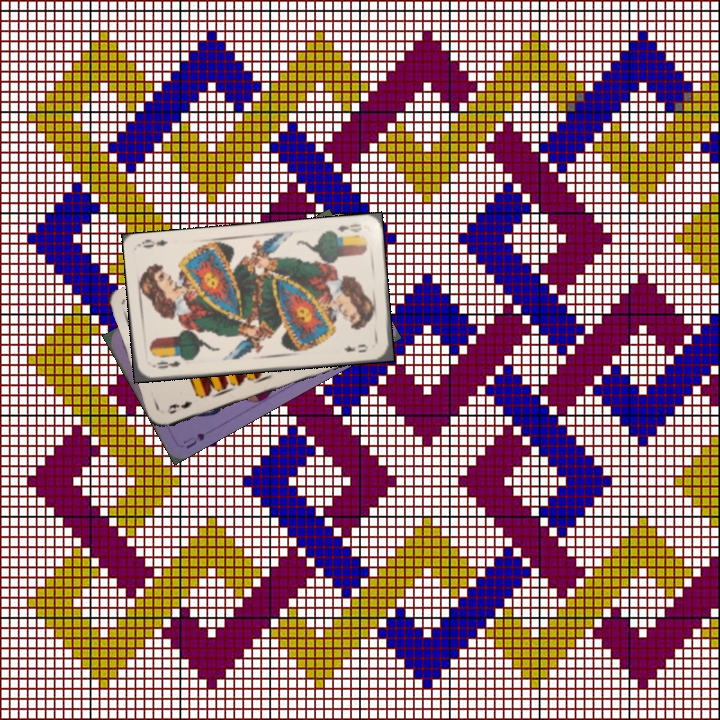E9: (163, 397, 195, 417)
EO: (326, 220, 364, 239), (148, 357, 183, 371)
SU: (179, 428, 208, 452)
